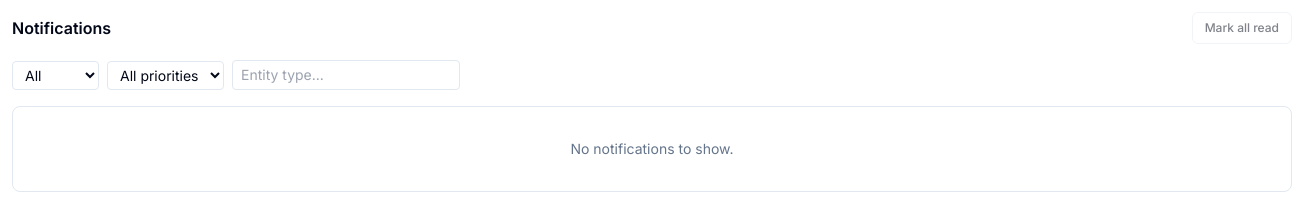
Test: NotificationPage › filters › clears all filters when clear button clicked
This screenshot has width=1304, height=211.
Select "High" in the dropdown with test id "filter-priority" at (166, 75), box [107, 60, 224, 90]
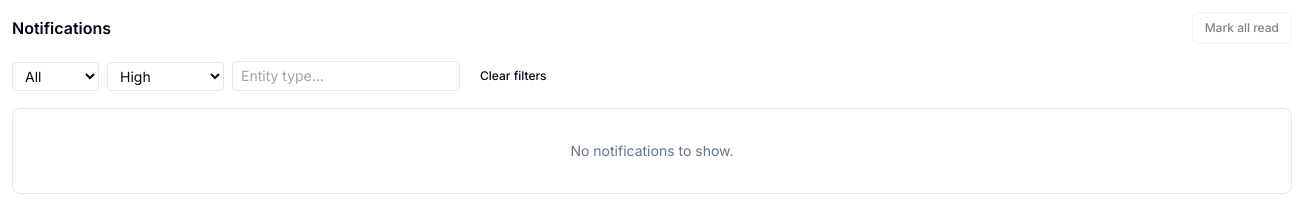
Click the button with test id "clear-filters-btn" at (513, 76), box [468, 60, 559, 92]
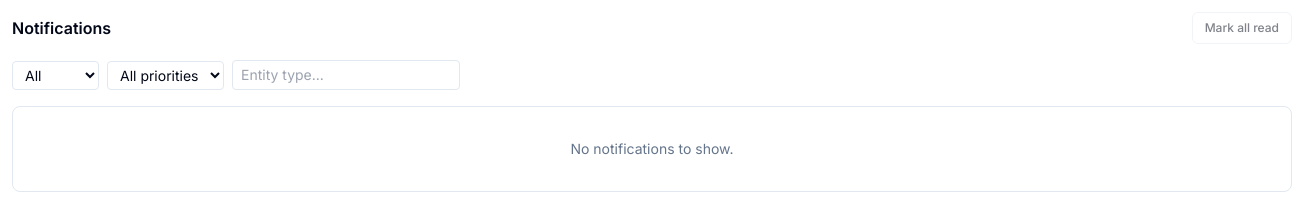
Check: the button with test id "clear-filters-btn" is gone
